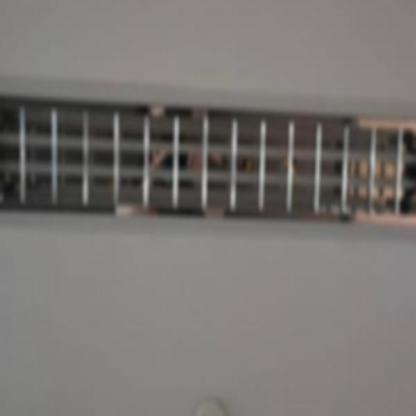light_off: (0, 70, 415, 239)
